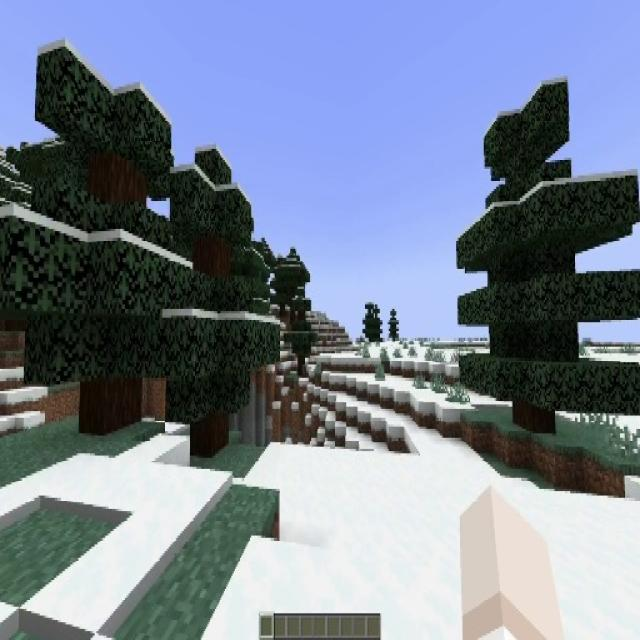spruce: (455, 72, 640, 437), (160, 149, 282, 449), (284, 290, 318, 374), (361, 298, 383, 346), (388, 308, 399, 339)
spruce_log: (7, 43, 174, 434), (79, 378, 140, 429), (512, 398, 556, 433), (191, 416, 228, 452)
